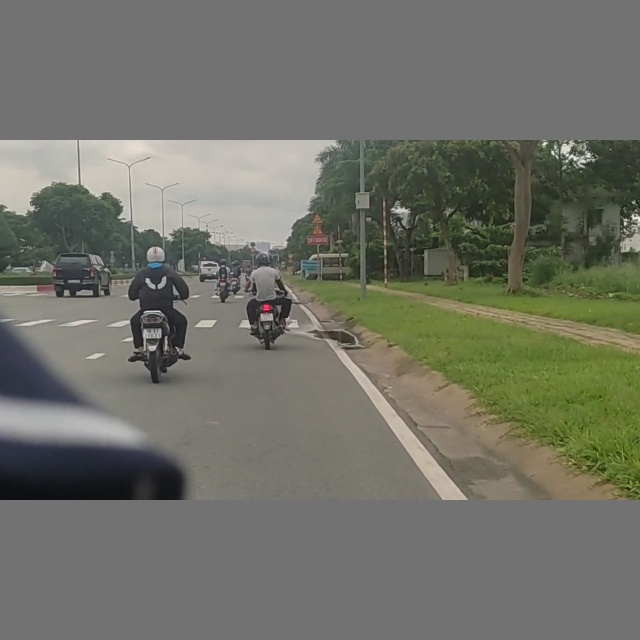P.130: (250, 241, 256, 247)
W.245a: (311, 213, 323, 223)
W.246a: (311, 225, 325, 235)
